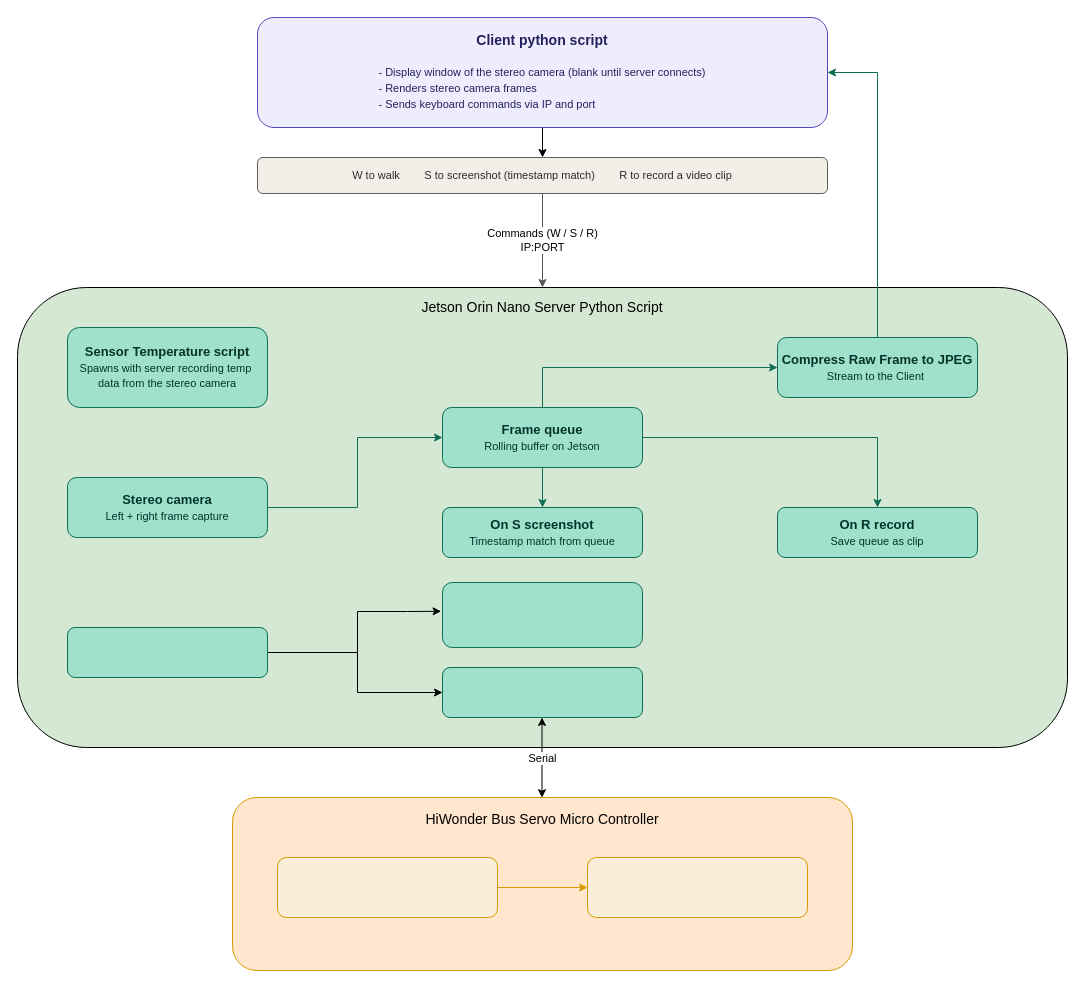
Image size: 1085x988. Some labels were removed from this diagram. The centre of each missing label's shape, as x and y in pixels:
"IMU Script Records vibration data from the stereo camera" goes at point (542, 615).
"On W walk Initiate walk sequence through the HiWonder microcontroller" goes at point (167, 652).
"Receives HiWonder Packet" goes at point (387, 887).
"Send PWM Position to Motors" goes at point (697, 887).
"Walking Script Gait control logic" goes at point (542, 692).
